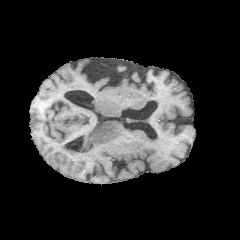glioma: (61, 120, 118, 155)
